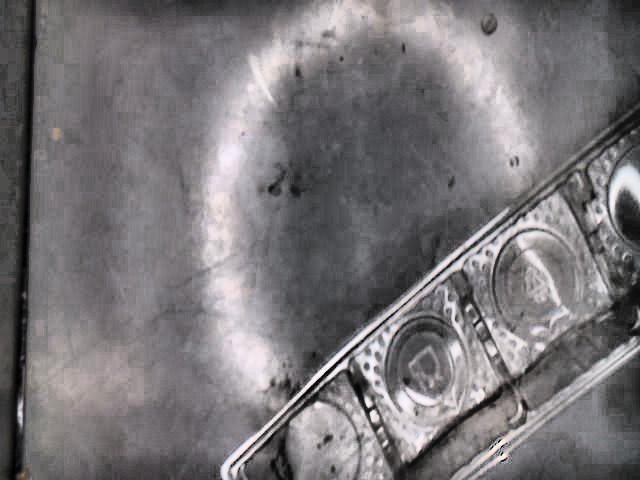Plastic: (218, 114, 640, 480)
